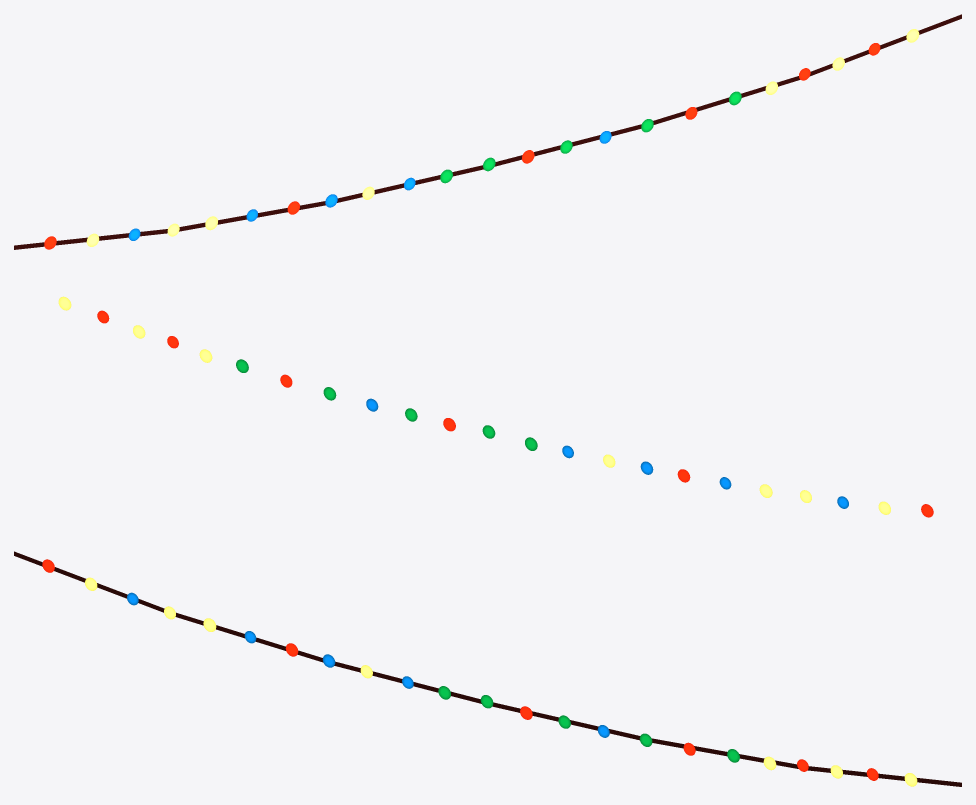
The model's file is Lights02_Art.fbx.
The picture shows the model from 3 angles, top to bottom: view 1: azimuth 30°, elevation 25°; view 2: azimuth 150°, elevation 25°; view 3: azimuth 330°, elevation 25°; orthographic projection.
Parts seen in each view (by area): view 1: Lights02_Art; view 2: Lights02_Art; view 3: Lights02_Art.
Part boxes in pixels (x1,y1,x2,y2): Lights02_Art: [14, 14, 961, 249]; Lights02_Art: [58, 296, 933, 517]; Lights02_Art: [14, 551, 961, 786].
Bounding box in the file's own units: 10.84 × 0.5223 × 0.0356.
